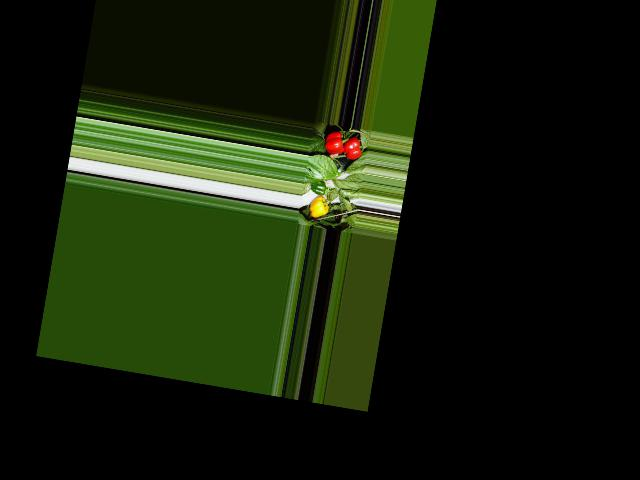bell_pepper: (306, 193, 331, 221)
